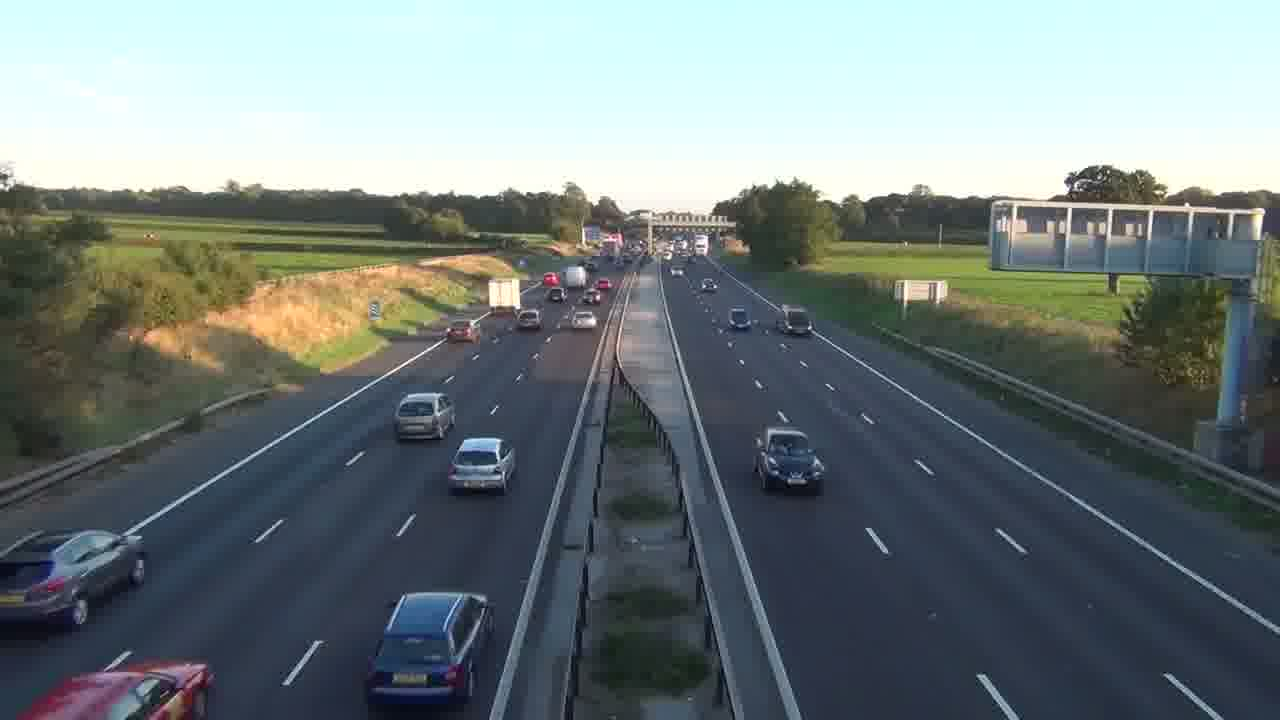car: (363, 591, 494, 711), (0, 527, 148, 631), (752, 427, 825, 494), (447, 436, 517, 495), (394, 391, 455, 441), (572, 309, 597, 328)
truck: (15, 652, 216, 719)
